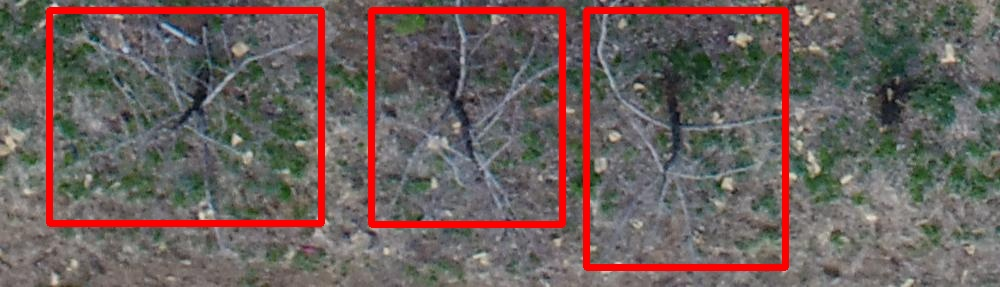apple: (49, 10, 321, 223), (586, 10, 785, 267), (371, 10, 562, 224)
